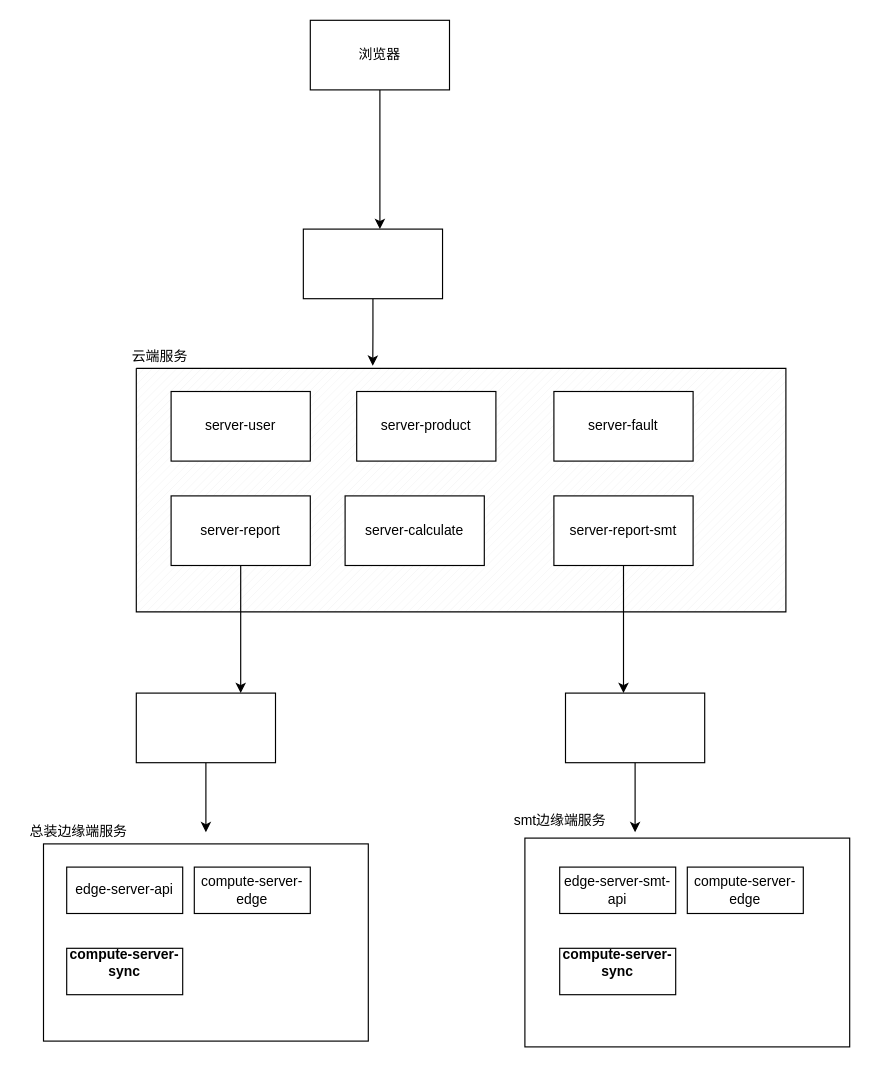
Image size: 870x1067. Some labels were removed from this diagram. Here are the shapes that lost their labels. From the top down, the box of each, then its label:
(302, 228, 443, 299): gateway
(135, 692, 276, 763): 总装边缘端gateway
(564, 692, 705, 763): smt边缘端gateway
